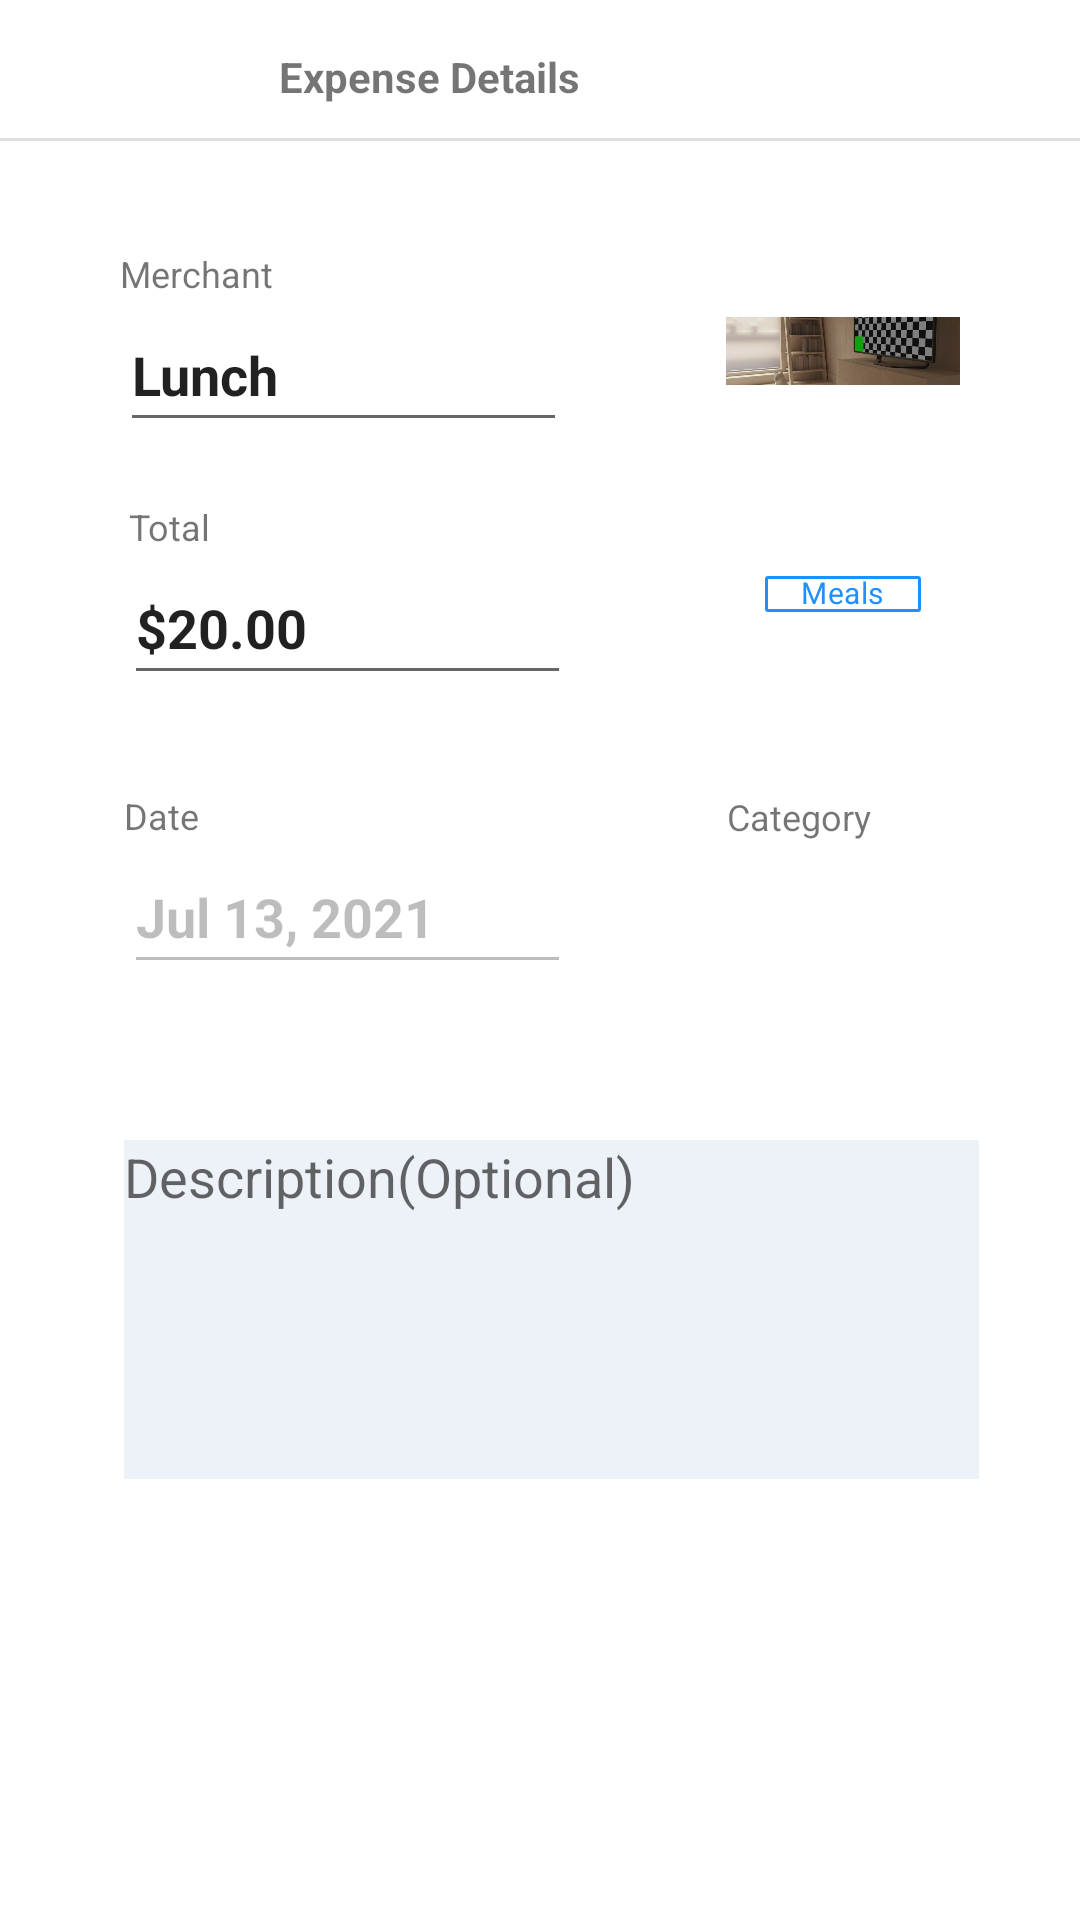

Screen size 1080w x 1920h. Icon name, then its box in pixels as [x1=x1, y1=y1, x2=x2, y2=y2]:
listimage: [x1=726, y1=317, x2=960, y2=385]
